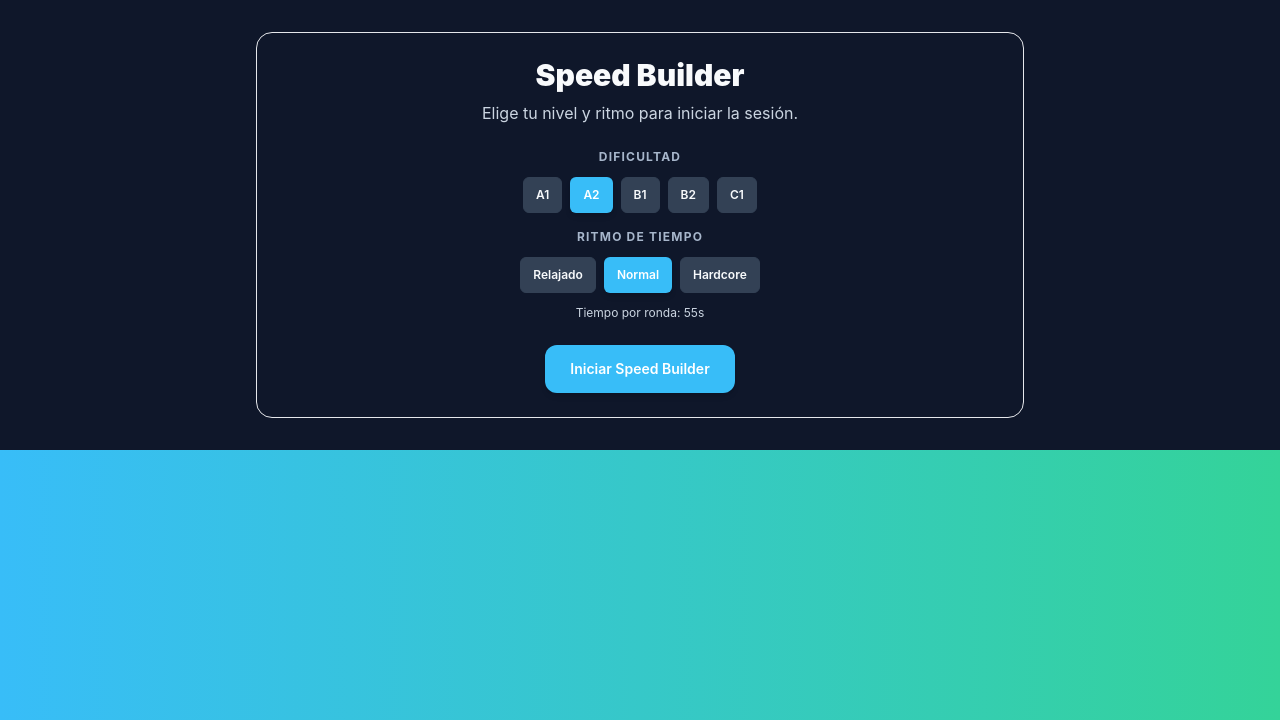
SpeedBuilderView › renders title and first round counter
The image size is (1280, 720).
Click the button "Iniciar Speed Builder": [640, 369] box [545,345,735,393]
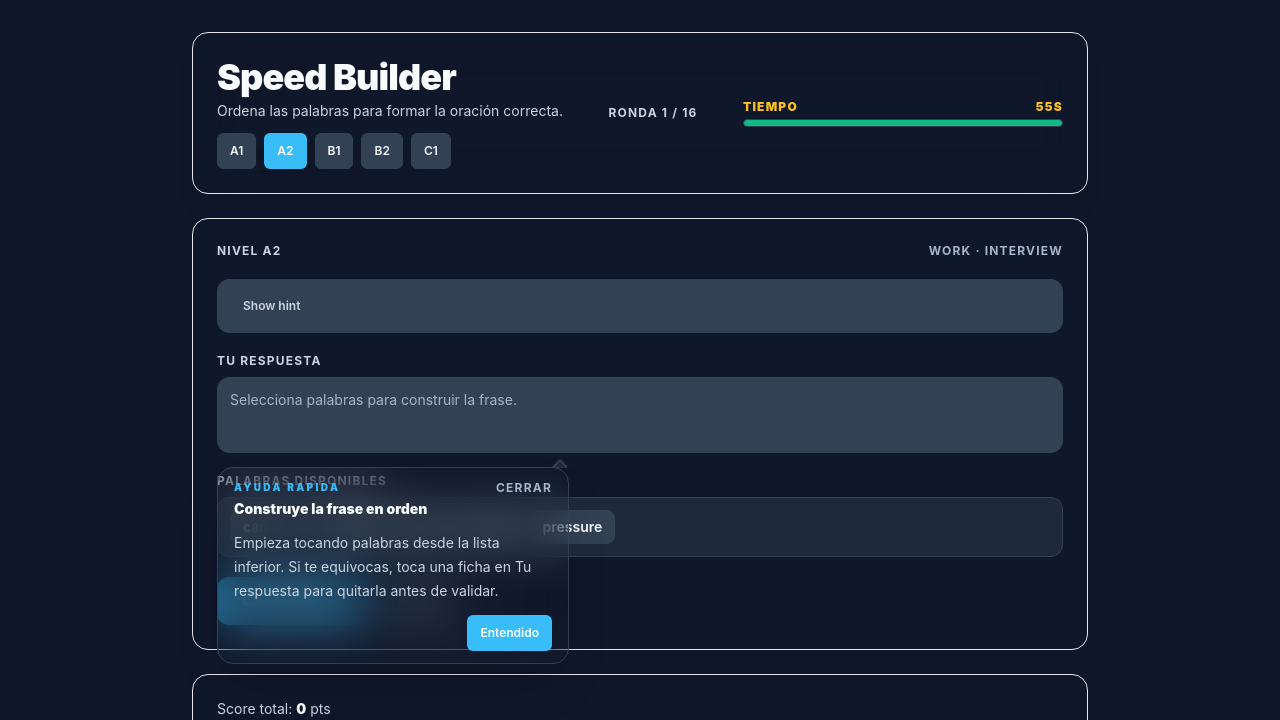
Expected: the heading "Speed Builder" is shown, [217,55,456,99]
Expected: the text "Ronda 1 / 16" is shown, [608,105,698,121]
